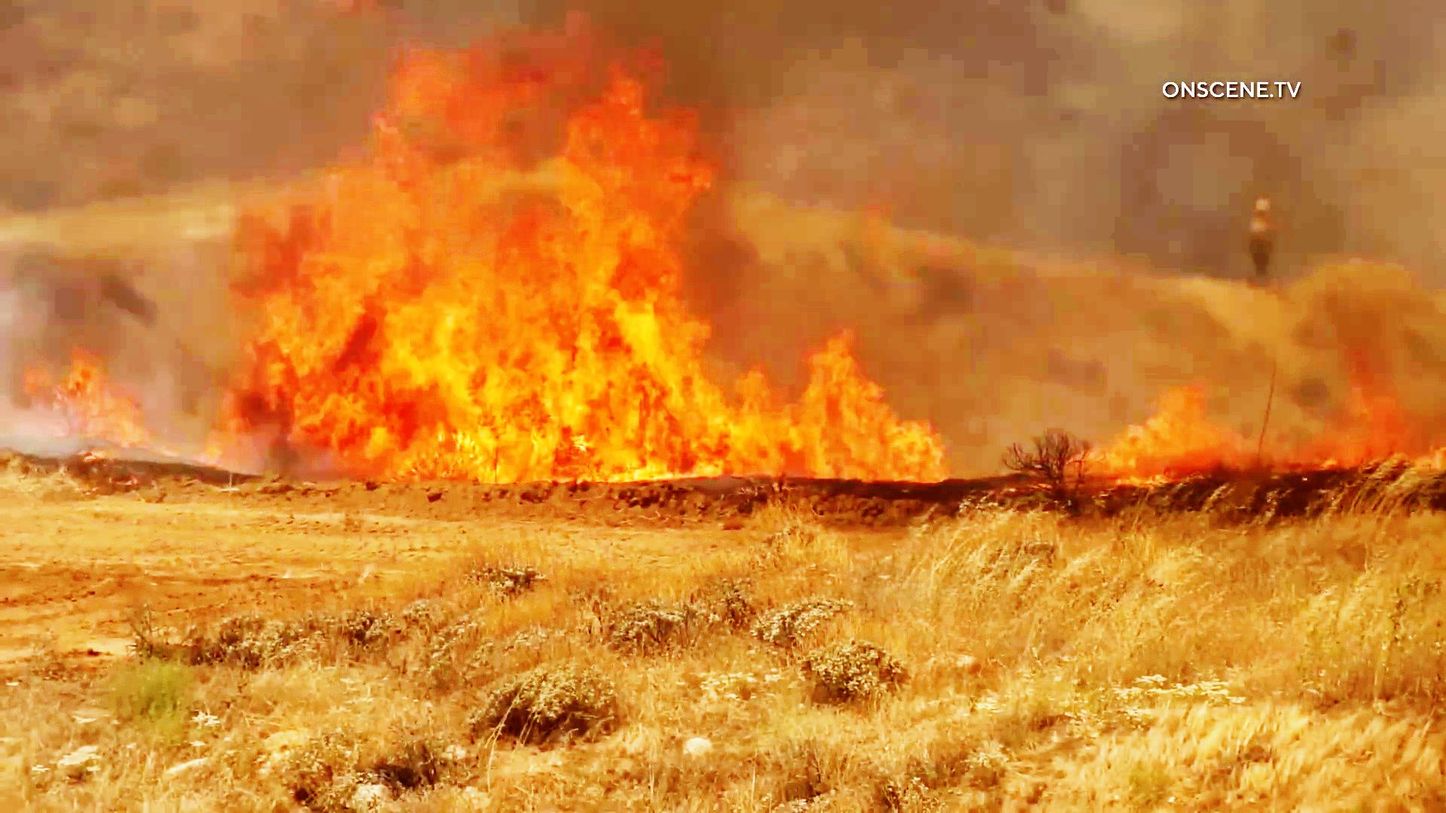fire: (258, 53, 959, 487), (1074, 369, 1294, 497), (6, 318, 170, 469)
